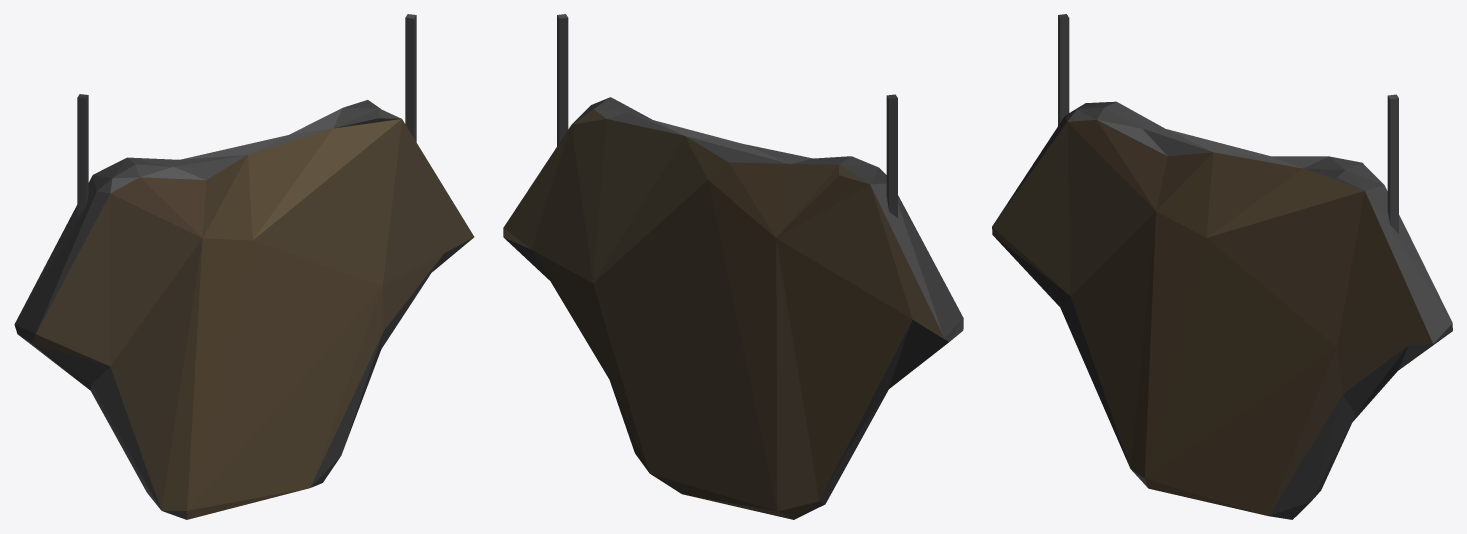
The model's file is Sign-HangingC.fbx.
The picture shows the model from 3 angles, left to right: view 1: azimuth 30°, elevation 25°; view 2: azimuth 150°, elevation 25°; view 3: azimuth 330°, elevation 25°; orthographic projection.
Parts seen in each view (by area): view 1: Sign-HangingC; view 2: Sign-HangingC; view 3: Sign-HangingC.
Boxes of the visible parts, box(x1,y1,x2,y2) form: Sign-HangingC: box(14, 14, 474, 519); Sign-HangingC: box(503, 14, 963, 519); Sign-HangingC: box(992, 14, 1452, 519).
Bounding box in the file's own units: 118 × 113 × 11.24.
